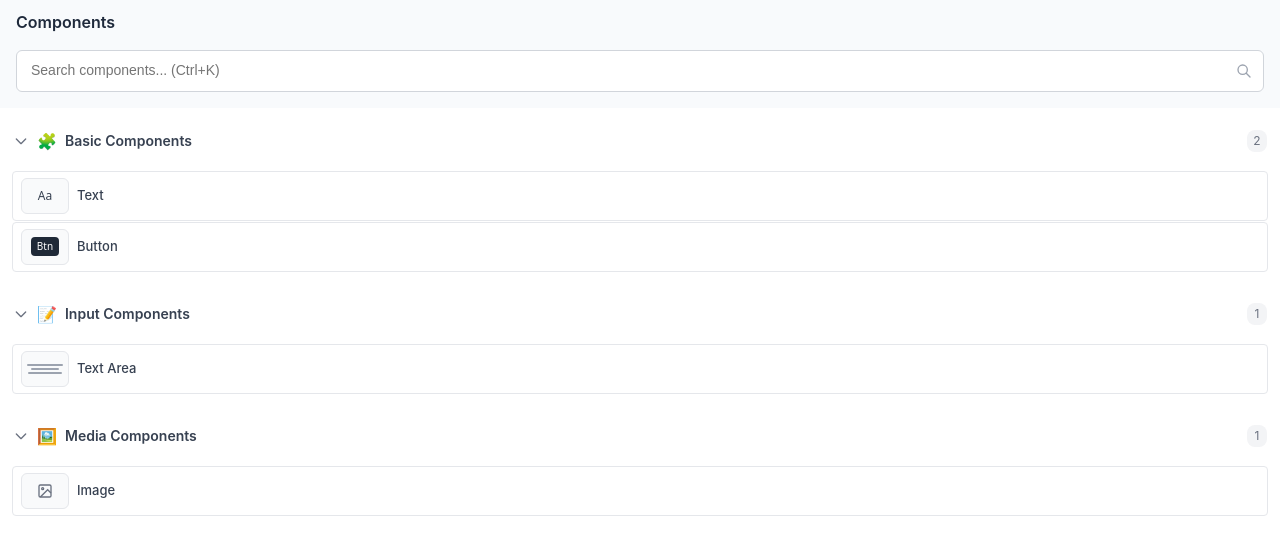
Test: PalettePanel Layout › Search Functionality › shows no results message when no matches
Type "nonexistent" into the search field. click: (640, 71)
box: [16,50,1264,92]
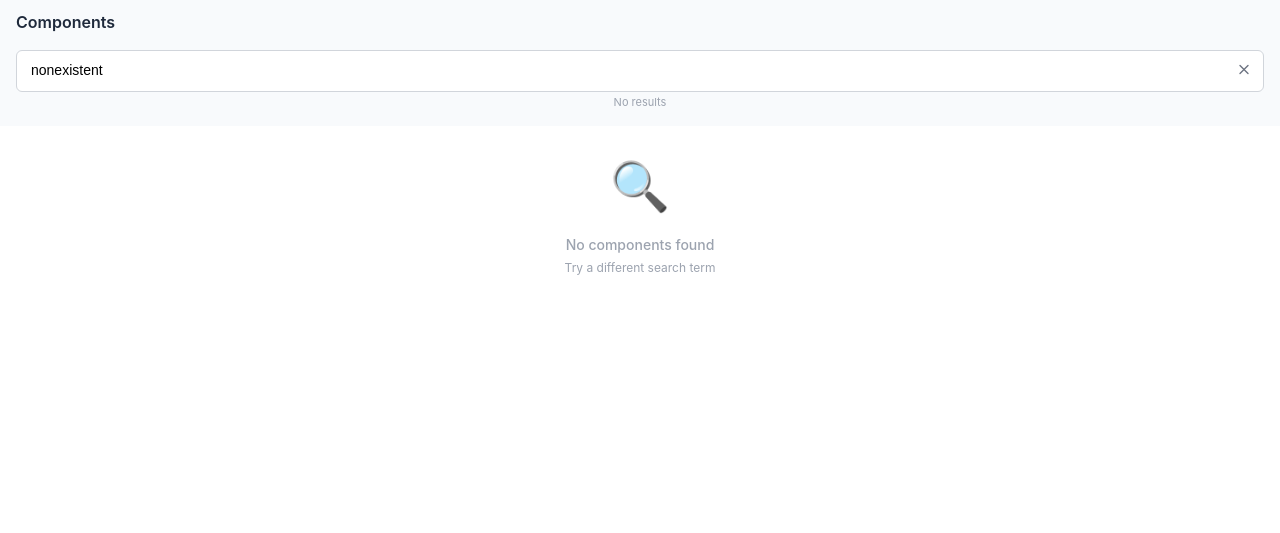
Expected: the text "Try a different search term" is shown, [565,260,716,275]
